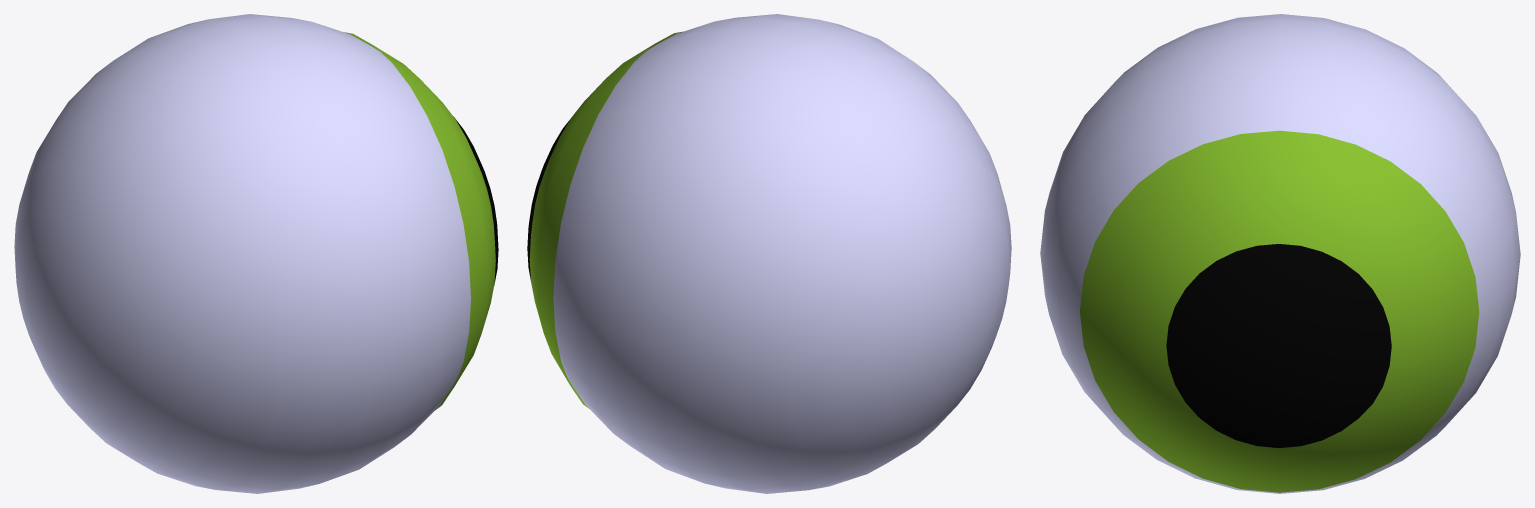
Rendered from Eye_Am_Sad_Adult.fbx.
3 views of the same model, side by side, from view 1: azimuth 30°, elevation 25°; view 2: azimuth 150°, elevation 25°; view 3: azimuth 270°, elevation 25° (orthographic).
Parts seen in each view (by area): view 1: Eye; view 2: Eye; view 3: Eye.
Boxes of the visible parts, box(x1,y1,x2,y2) form: Eye: box(14, 14, 498, 493); Eye: box(527, 14, 1011, 493); Eye: box(1040, 14, 1520, 493).
Bounding box in the file's own units: 6110 × 6024 × 6024.
